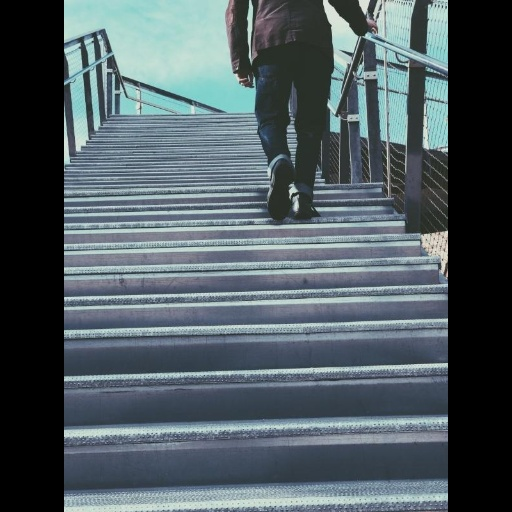Stairs: (66, 114, 447, 512)
